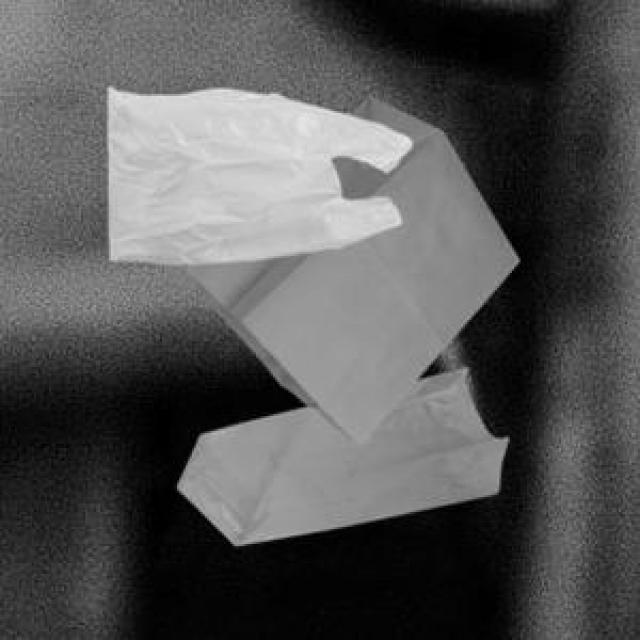paper: (184, 94, 514, 442)
